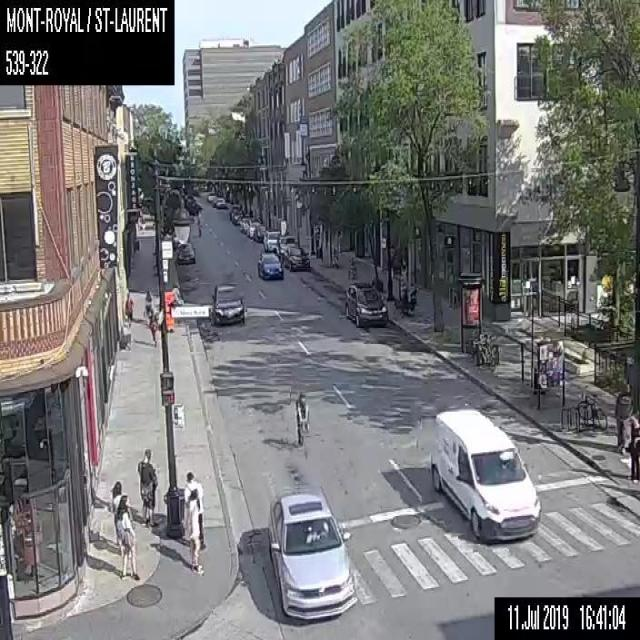construction: (164, 289, 174, 332)
cyclist: (295, 391, 309, 458)
pedestrian: (117, 494, 139, 580), (136, 445, 159, 524), (183, 470, 205, 549), (187, 488, 203, 576), (624, 412, 639, 483), (112, 479, 123, 550), (148, 308, 157, 346), (143, 288, 152, 325), (124, 291, 133, 325)
vehicle: (427, 407, 541, 542), (266, 488, 358, 620), (342, 278, 387, 326), (211, 281, 244, 324), (257, 251, 283, 279), (283, 245, 309, 270), (276, 235, 297, 261), (174, 241, 195, 264), (263, 229, 280, 251), (246, 216, 261, 236), (253, 225, 268, 241), (229, 205, 241, 218), (231, 211, 243, 222), (213, 196, 225, 206), (240, 217, 248, 232), (206, 192, 216, 200)
